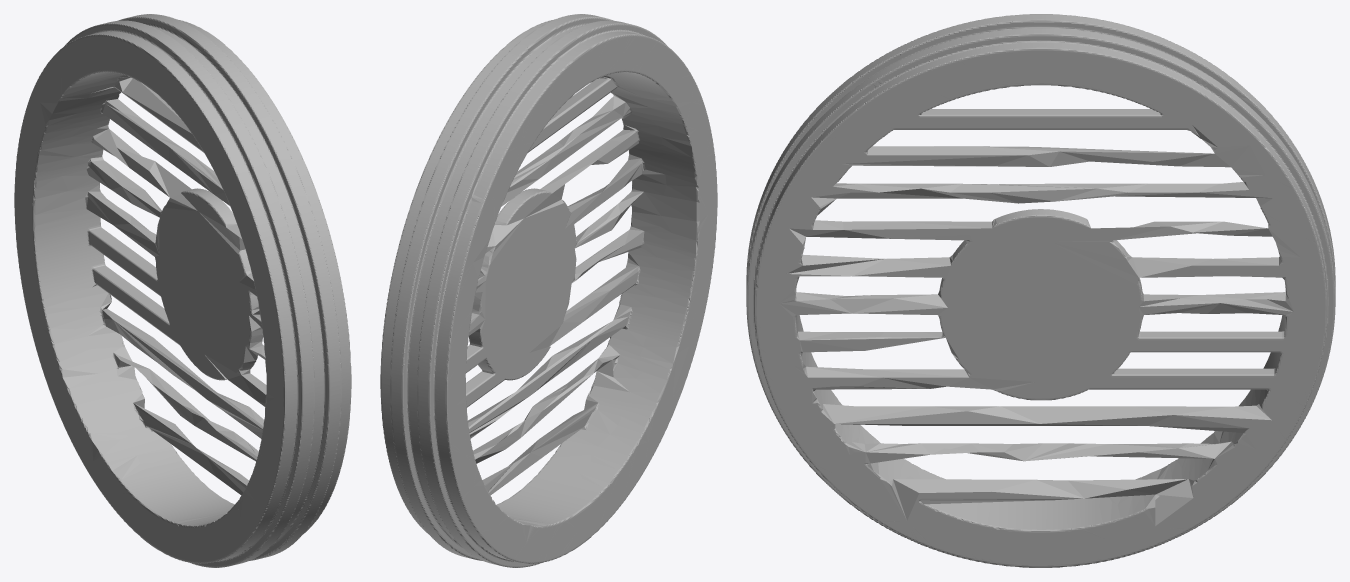
The model's file is PipeCover2.fbx.
3 views of the same model, side by side, from view 1: azimuth 30°, elevation 25°; view 2: azimuth 150°, elevation 25°; view 3: azimuth 270°, elevation 25° (orthographic). The views are drawn at different scales.
Visible parts, largest first — view 1: PipeCover2; view 2: PipeCover2; view 3: PipeCover2.
Boxes of the visible parts, x1,y1,x2,y2 form: PipeCover2: (14,14,351,567); PipeCover2: (380,14,717,567); PipeCover2: (746,14,1335,567).
Size of the model in its own units: 28.45 by 205 by 205.
